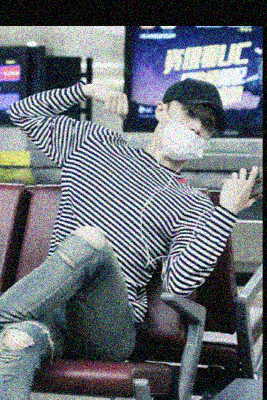mask_weared_incorrect: (162, 102, 215, 158)
